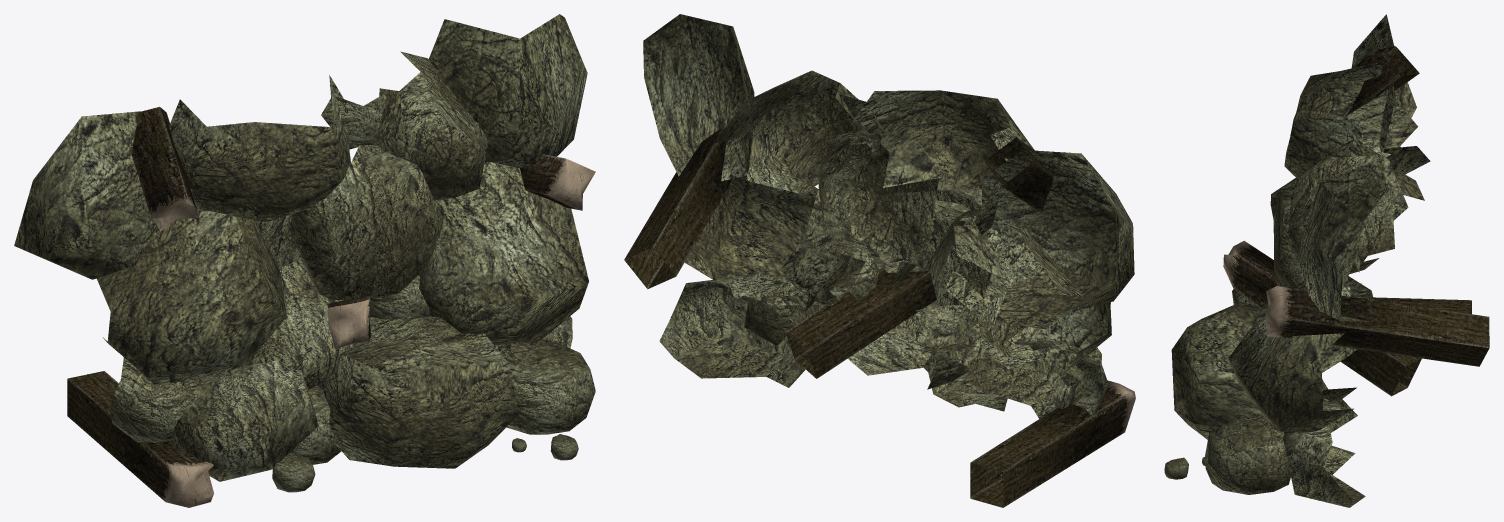
The model's file is cave_in.dae.
3 views of the same model, side by side, from view 1: azimuth 30°, elevation 25°; view 2: azimuth 150°, elevation 25°; view 3: azimuth 270°, elevation 25° (orthographic). The views are drawn at different scales.
Visible parts, largest first — view 1: polySurface1; view 2: polySurface1; view 3: polySurface1.
Part boxes in pixels (x1,y1,x2,y2): polySurface1: [14, 14, 595, 507]; polySurface1: [624, 14, 1135, 507]; polySurface1: [1164, 14, 1489, 507].
Size of the model in its own units: 7.41 by 4.77 by 4.41.
